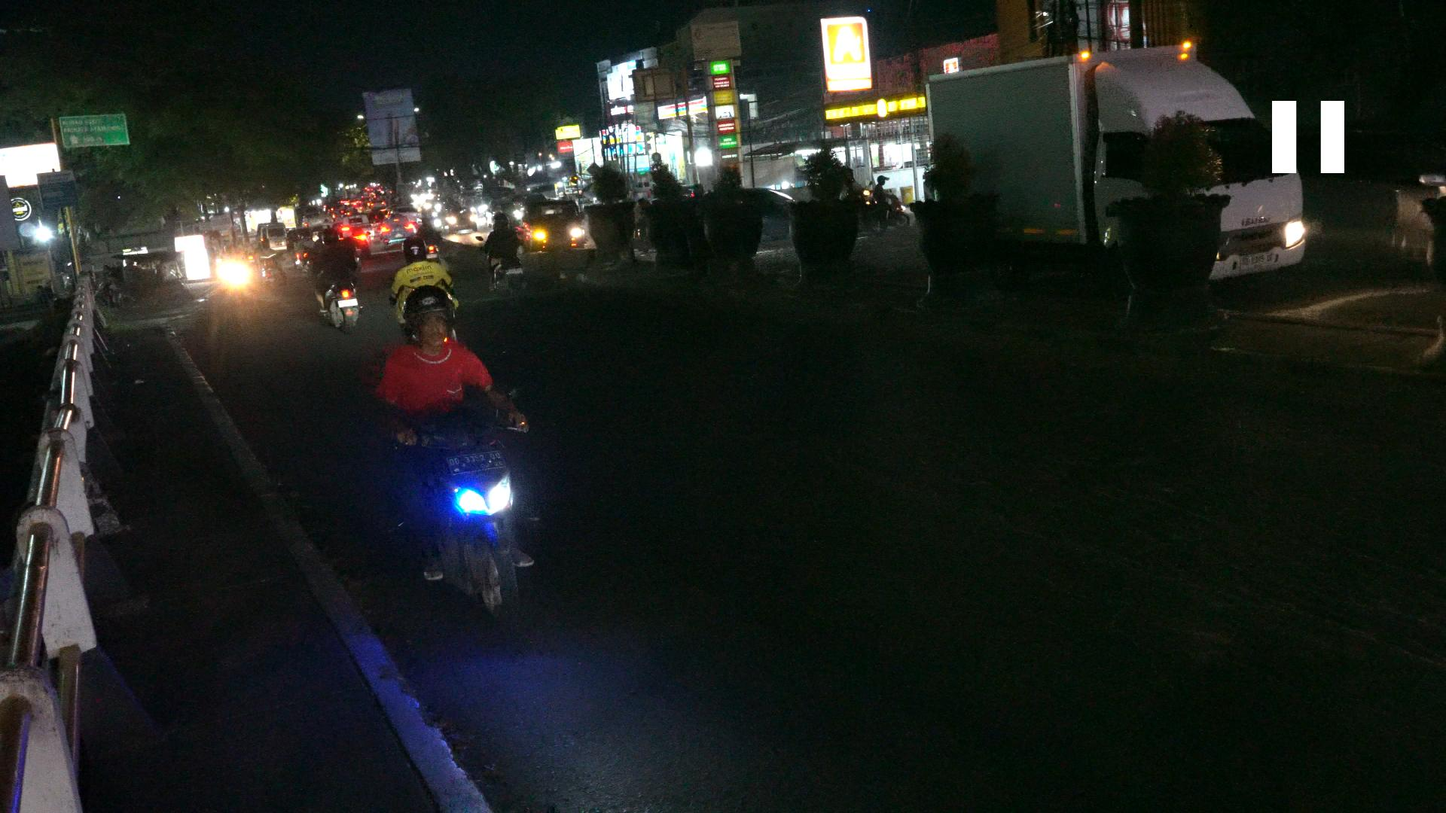number-plate: (444, 441, 512, 474)
